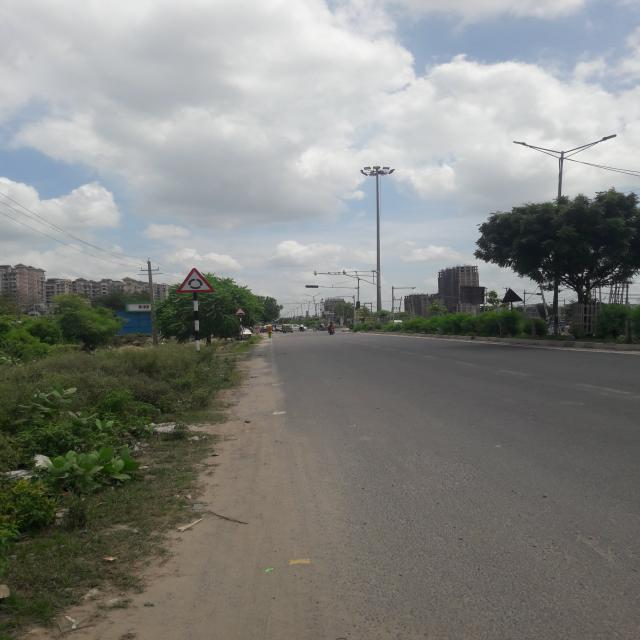roundabout: (177, 268, 215, 293)
